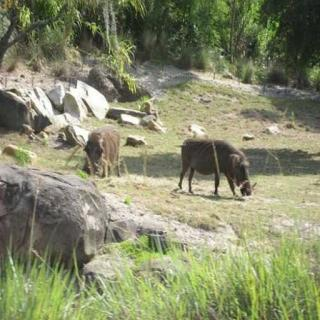Pig: (157, 129, 256, 205), (75, 94, 131, 190)
